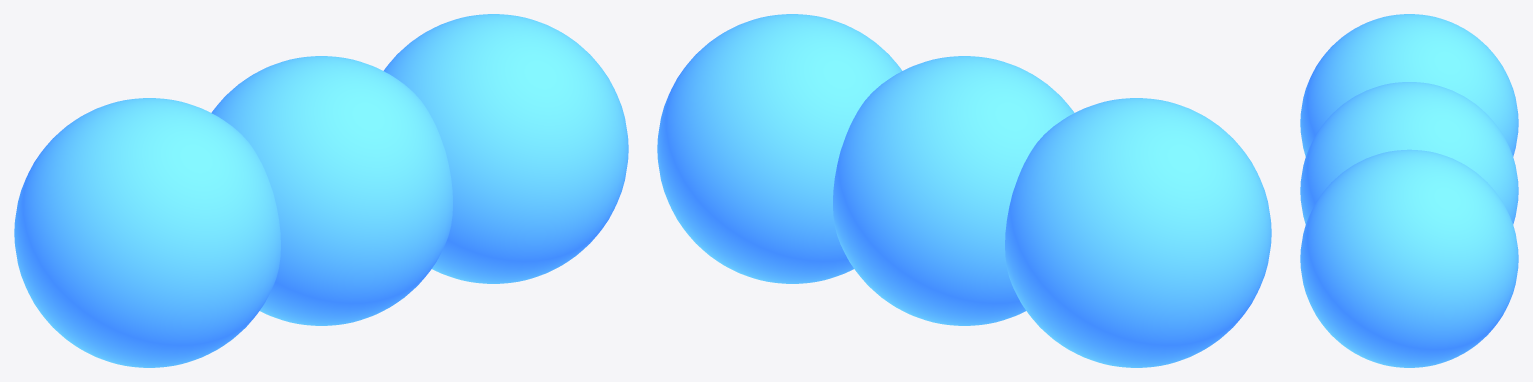
3 renders of one model, left to right at view 1: azimuth 30°, elevation 25°; view 2: azimuth 150°, elevation 25°; view 3: azimuth 270°, elevation 25°, orthographic. The views are drawn at different scales.
Visible parts, largest first — view 1: count (×3); view 2: count (×3); view 3: count (×3).
Part boxes in pixels (x1,y1,x2,y2): count (×3): (14, 14, 628, 367); count (×3): (657, 14, 1271, 367); count (×3): (1300, 14, 1518, 367).
Bounding box in the file's own units: 0.336 × 0.136 × 0.136.
